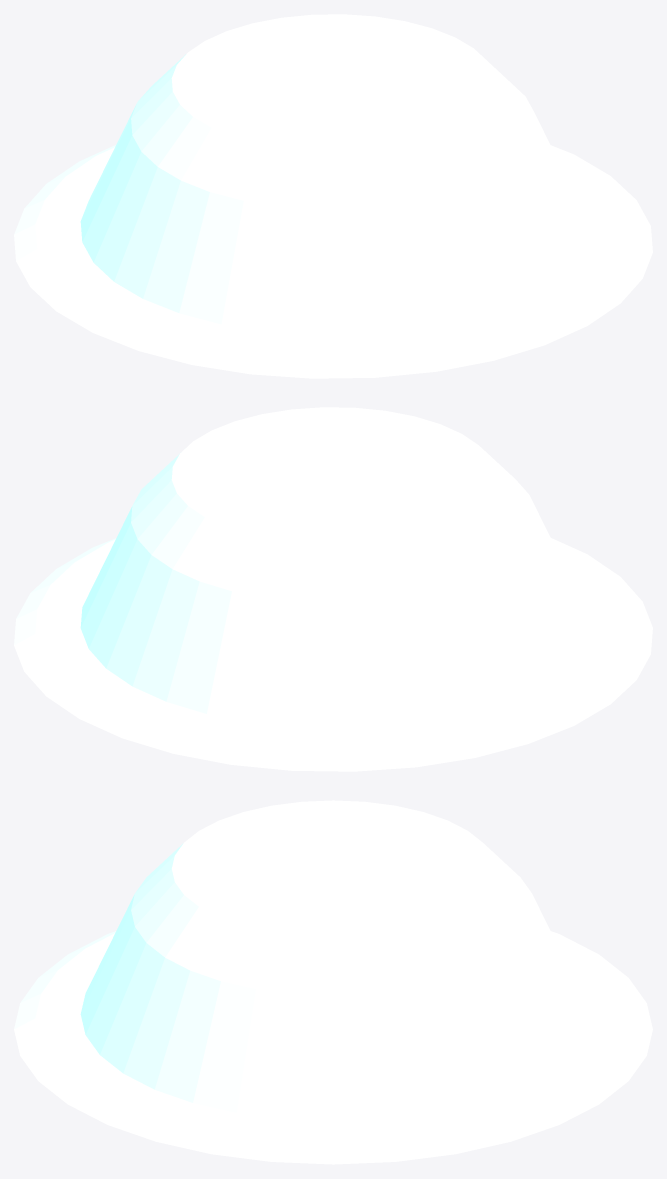
Rendered from BTS_LICHT.glb.
3 views of the same model, one above another, from view 1: azimuth 30°, elevation 25°; view 2: azimuth 150°, elevation 25°; view 3: azimuth 270°, elevation 25° (orthographic).
Parts seen in each view (by area): view 1: BTS_LICHT; view 2: BTS_LICHT; view 3: BTS_LICHT.
Part boxes in pixels (x1,y1,x2,y2): BTS_LICHT: (14, 14, 652, 378); BTS_LICHT: (14, 407, 652, 771); BTS_LICHT: (14, 800, 652, 1164).
Size of the model in its own units: 0.0804 by 0.029 by 0.0804.
